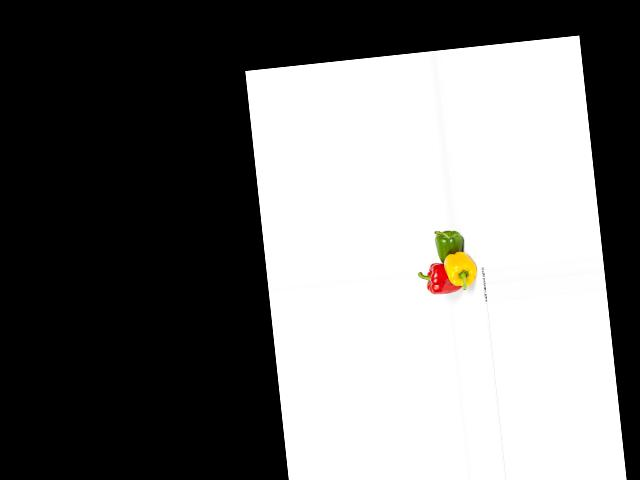bell_pepper: (417, 260, 460, 299)
